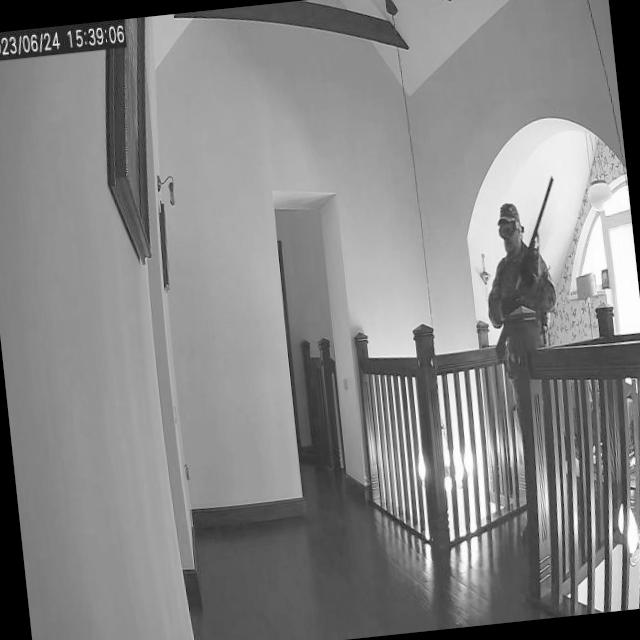gun: (475, 173, 572, 343)
person with a gun: (473, 175, 589, 554)
